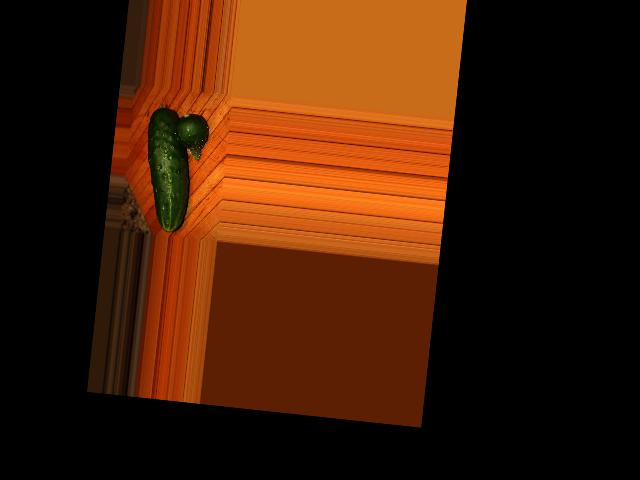cucumber: (137, 106, 197, 234)
